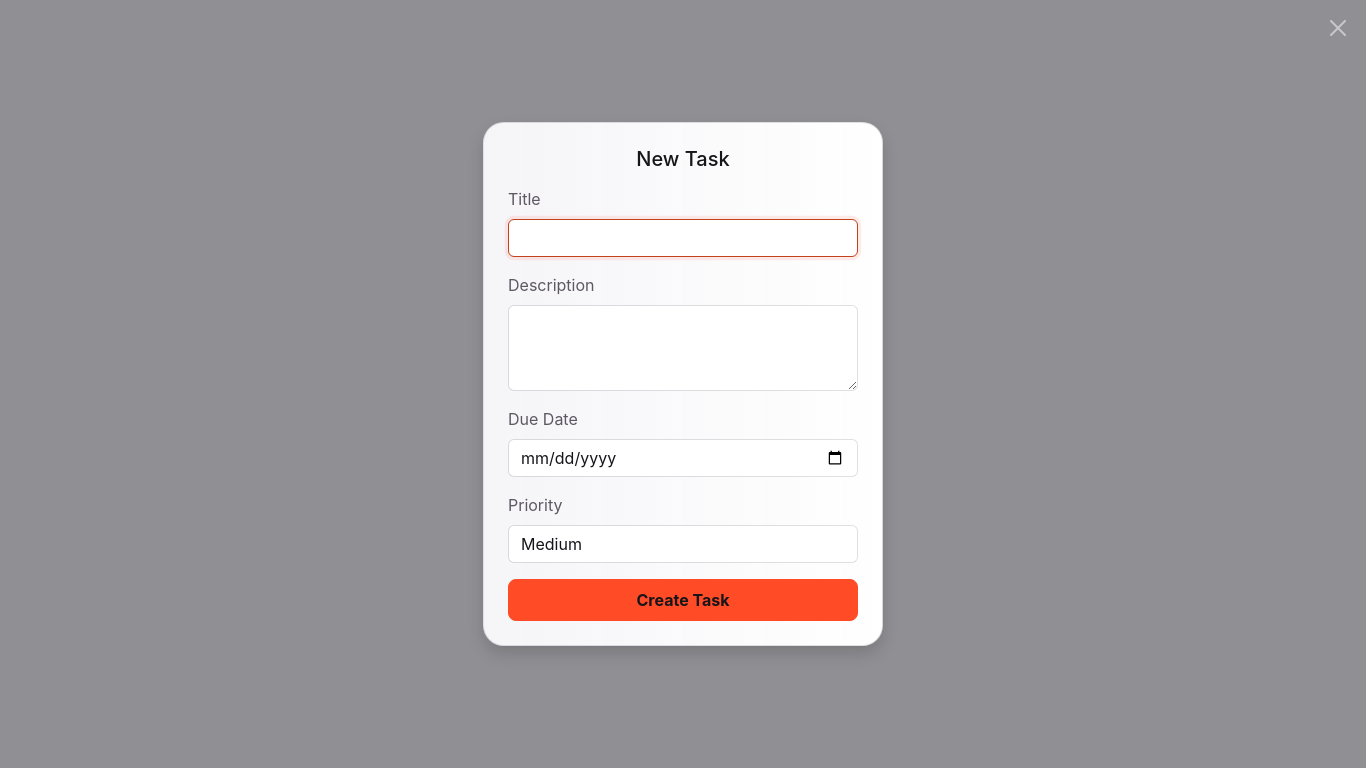
Test case: CreateTaskModal › shows an error message when the request fails
The width and height of the screenshot is (1366, 768).
Type "Study for exam" into the field labelled "Title".
click(683, 238); type("Study for exam")  # box [508, 219, 858, 257]
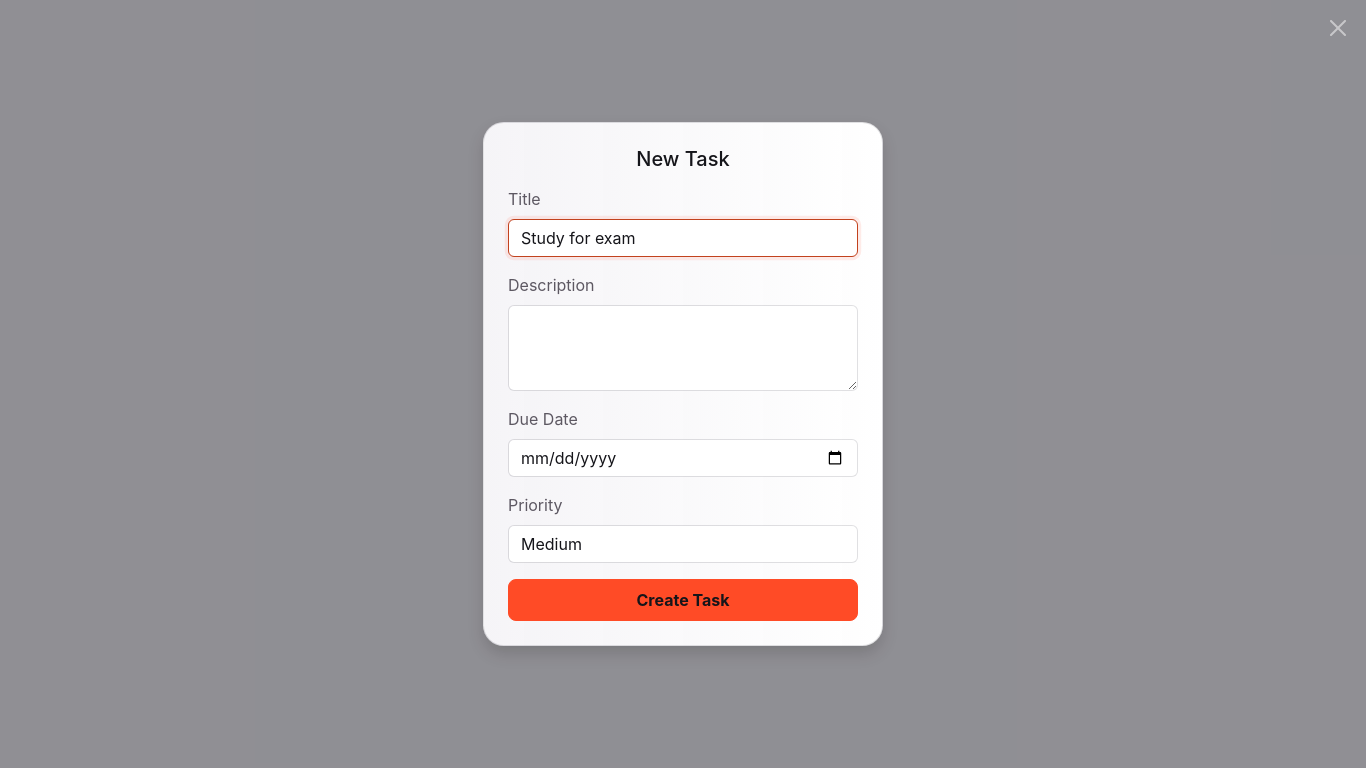
Click the button "Create Task".
click(683, 600)  # box [508, 579, 858, 621]
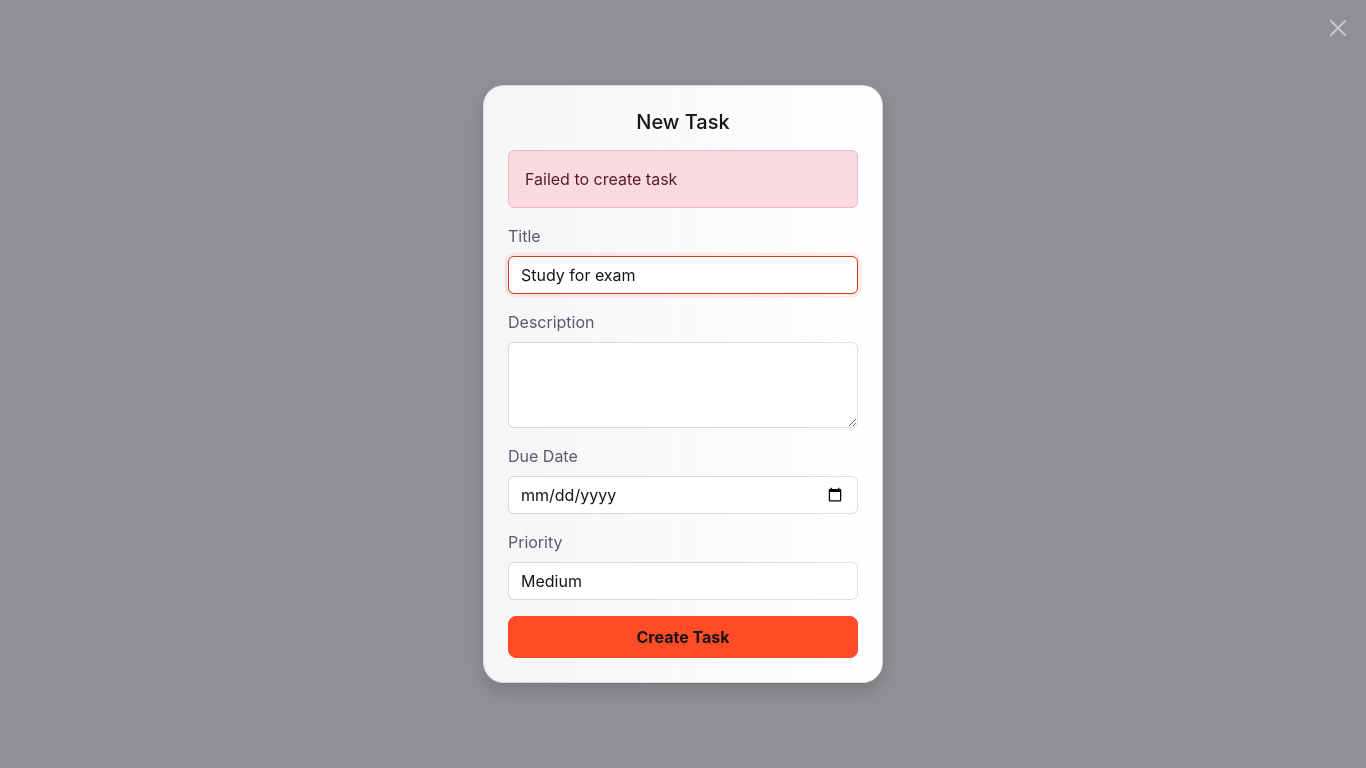
expect the text "Failed to create task" is shown: met, box [508, 150, 858, 208]
